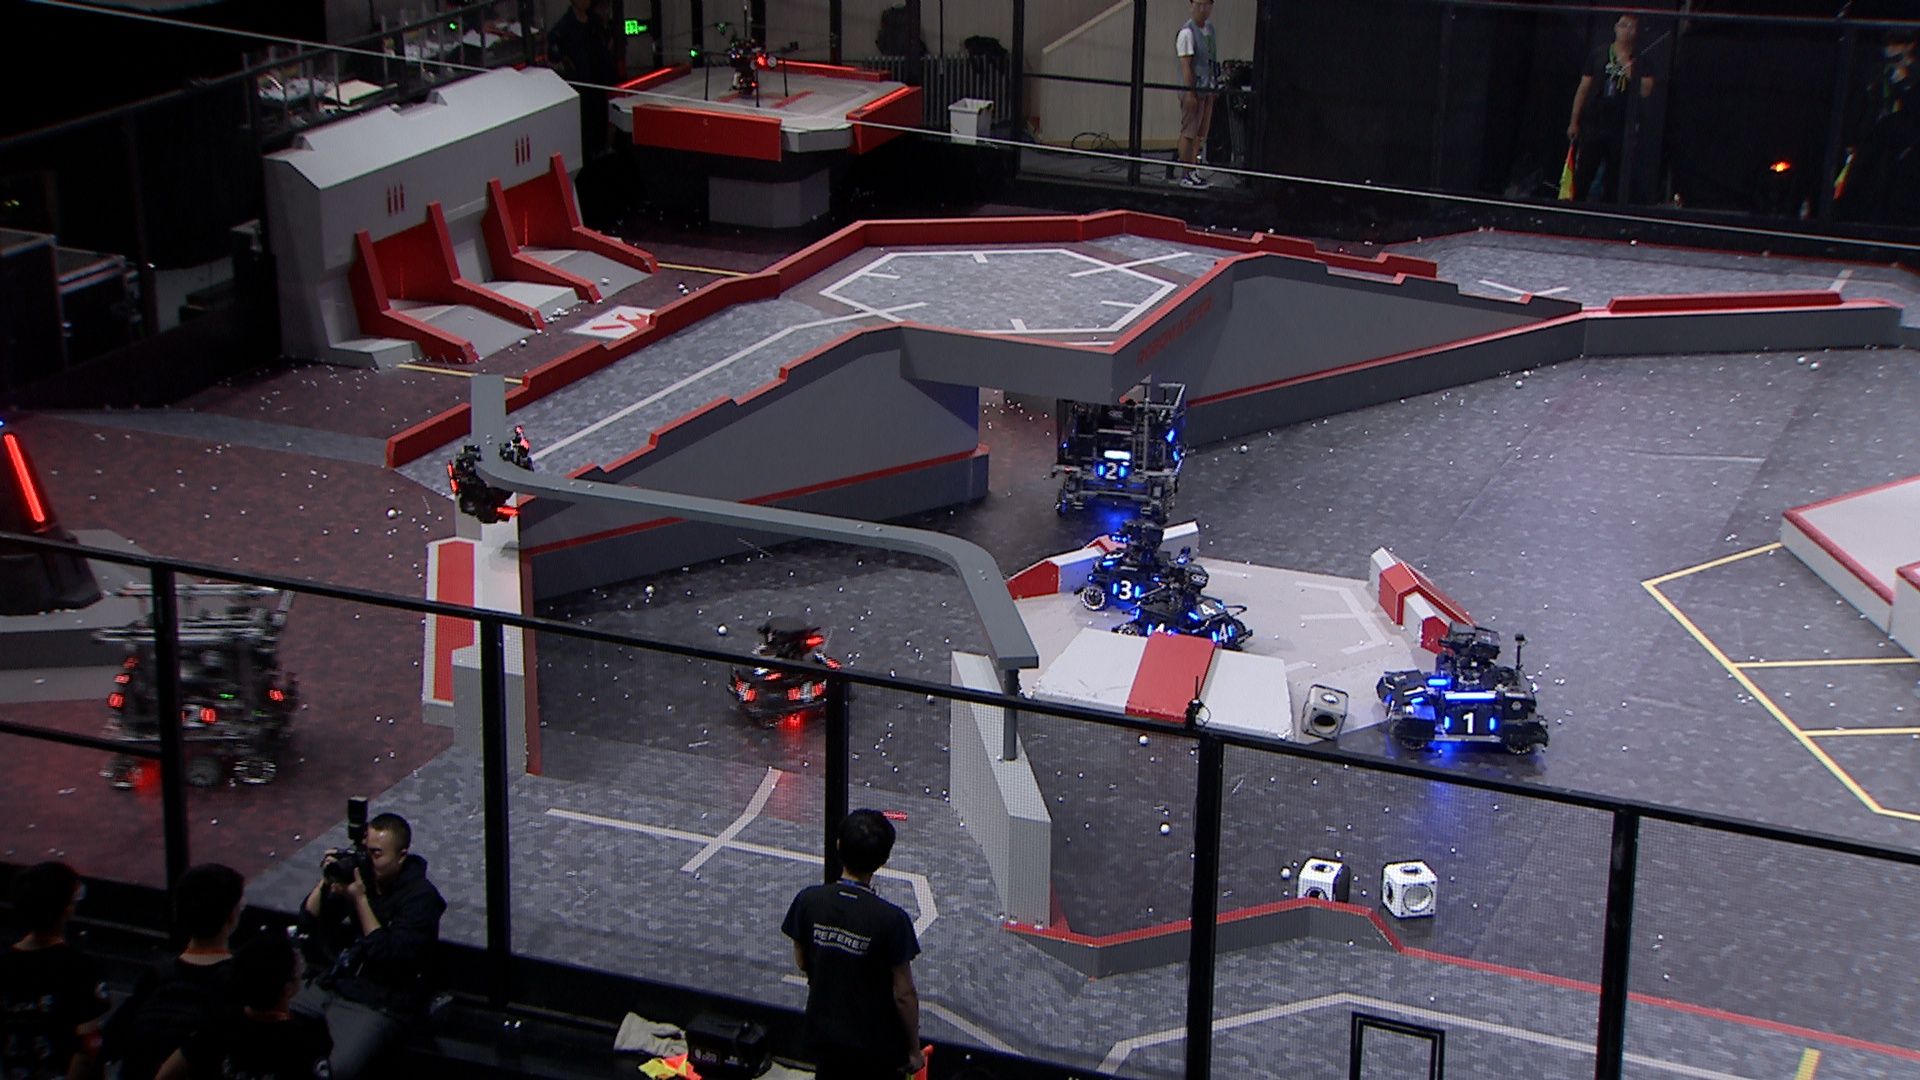armor: (3, 433, 51, 524), (1443, 708, 1498, 741), (174, 700, 218, 731), (1395, 673, 1432, 707), (746, 651, 785, 683), (262, 670, 295, 704), (787, 679, 828, 704), (1183, 600, 1228, 622), (1110, 578, 1143, 603), (1377, 688, 1400, 723), (1092, 460, 1127, 483), (731, 676, 757, 704), (1145, 621, 1174, 645), (1097, 547, 1127, 570), (440, 465, 462, 495), (1211, 621, 1237, 642), (1168, 439, 1183, 463)
car: (100, 579, 309, 790), (1371, 613, 1553, 761), (1048, 380, 1185, 524), (727, 609, 858, 731), (1109, 560, 1258, 655), (1076, 520, 1207, 611)
watcher: (439, 423, 533, 527)
